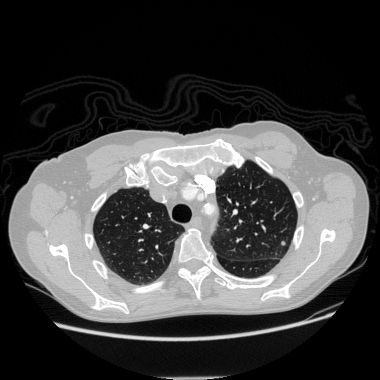nodule: (279, 240, 285, 246)
